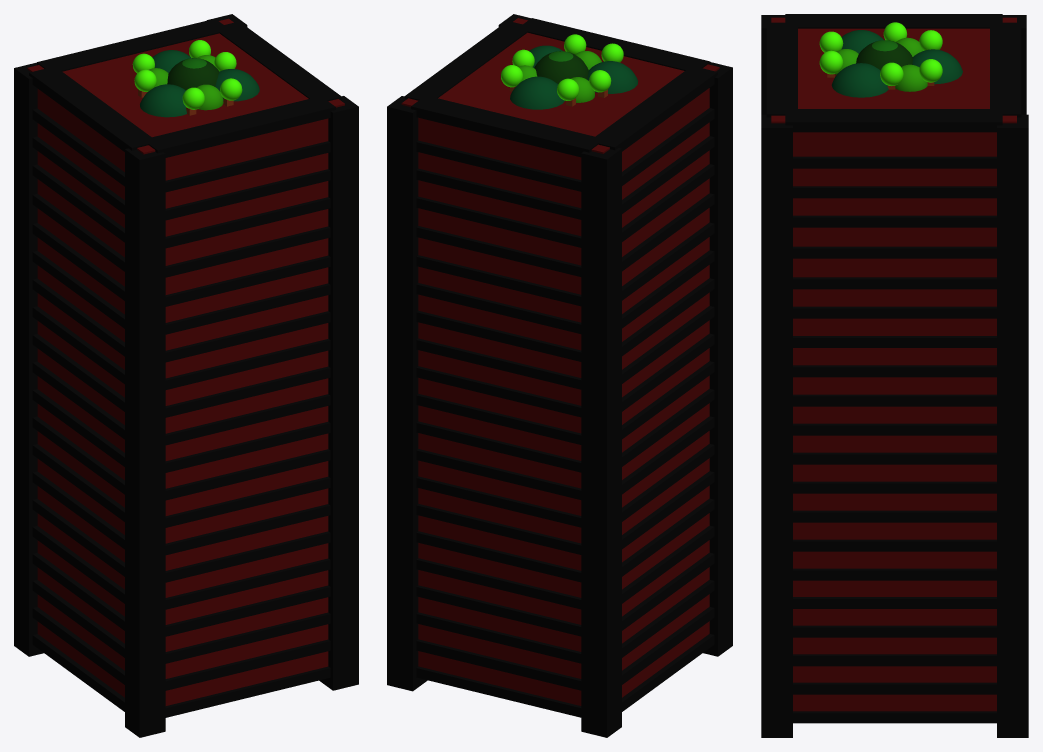
Rendered from MainBuild_Red.fbx.
3 views of the same model, side by side, from view 1: azimuth 30°, elevation 25°; view 2: azimuth 150°, elevation 25°; view 3: azimuth 270°, elevation 25° (orthographic). The views are drawn at different scales.
Parts seen in each view (by area): view 1: pCube1, pasted__pasted__pasted__pasted__pasted__pasted__pasted__past (×31), pasted__pasted__pCube2, pasted__pCube2, pasted__pasted__pasted__pCube2, pasted__pasted__pasted__pCube3 (×2), pasted__pasted__pasted__pasted__pasted__pasted__pasted__pCub (×2), pasted__pasted__pasted__pasted__pasted__pCube3 (×2), pasted__pasted__pasted__pasted__pasted__pasted__pCube3 (×2), pasted__pasted__pasted__pasted__pCube3 (×2), pCube3, pasted__pCube3 (+4 smaller); view 2: pCube1, pasted__pasted__pasted__pasted__pasted__pasted__pasted__past (×30), pasted__pasted__pasted__pCube2, pCube2, pasted__pasted__pCube2, pasted__pasted__pasted__pasted__pCube3 (×2), pasted__pasted__pCube3 (×2), pasted__pasted__pasted__pasted__pasted__pasted__pCube3 (×2), pasted__pasted__pasted__pasted__pasted__pasted__pasted__pCub (×2), pasted__pasted__pasted__pCube3 (×2), pasted__pasted__pasted__pasted__pasted__pCube3 (×2), pCube3 (+4 smaller); view 3: pCube1, pasted__pasted__pasted__pasted__pasted__pasted__pasted__past (×20), pCube2, pasted__pCube2, pasted__pCube3, pasted__pasted__pCube3, pasted__pasted__pasted__pCube3, pasted__pasted__pasted__pasted__pCube3, pasted__pasted__pasted__pasted__pasted__pasted__pCube3, pasted__pasted__pasted__pasted__pasted__pasted__pasted__pCub, pasted__pasted__pasted__pasted__pasted__pCube3, pasted__pasted__pasted__pasted__pasted__pSphere1 (+5 smaller).
Boxes of the visible parts, <box> form: pCube1: <box>27,18,344,705</box>; pasted__pasted__pasted__pasted__pasted__pasted__pasted__past (×31): <box>29,19,341,582</box>; pasted__pasted__pCube2: <box>125,148,165,737</box>; pasted__pCube2: <box>319,96,358,690</box>; pasted__pasted__pasted__pCube2: <box>14,62,43,656</box>; pasted__pasted__pasted__pCube3 (×2): <box>32,553,330,717</box>; pasted__pasted__pasted__pasted__pasted__pasted__pasted__pCub (×2): <box>32,444,330,609</box>; pasted__pasted__pasted__pasted__pasted__pCube3 (×2): <box>32,499,330,663</box>; pasted__pasted__pasted__pasted__pasted__pasted__pCube3 (×2): <box>32,471,330,636</box>; pasted__pasted__pasted__pasted__pCube3 (×2): <box>32,526,330,690</box>; pCube3: <box>32,634,124,711</box>; pasted__pCube3: <box>32,607,124,684</box>; pCube1: <box>401,18,719,705</box>; pasted__pasted__pasted__pasted__pasted__pasted__pasted__past (×30): <box>404,18,717,554</box>; pasted__pasted__pasted__pCube2: <box>581,148,621,737</box>; pCube2: <box>387,96,427,691</box>; pasted__pasted__pCube2: <box>703,62,732,656</box>; pasted__pasted__pasted__pasted__pCube3 (×2): <box>416,525,714,663</box>; pasted__pasted__pCube3 (×2): <box>416,579,714,717</box>; pasted__pasted__pasted__pasted__pasted__pasted__pCube3 (×2): <box>416,471,714,609</box>; pasted__pasted__pasted__pasted__pasted__pasted__pasted__pCub (×2): <box>416,443,714,582</box>; pasted__pasted__pasted__pCube3 (×2): <box>416,552,714,690</box>; pasted__pasted__pasted__pasted__pasted__pCube3 (×2): <box>416,498,714,636</box>; pCube3: <box>622,634,714,711</box>; pCube1: <box>771,17,1016,711</box>; pasted__pasted__pasted__pasted__pasted__pasted__pasted__past (×20): <box>766,14,1021,522</box>; pCube2: <box>997,114,1028,737</box>; pasted__pCube2: <box>761,114,792,737</box>; pasted__pCube3: <box>793,711,996,723</box>; pasted__pasted__pCube3: <box>793,682,996,694</box>; pasted__pasted__pasted__pCube3: <box>793,654,996,666</box>; pasted__pasted__pasted__pasted__pCube3: <box>793,625,996,637</box>; pasted__pasted__pasted__pasted__pasted__pasted__pCube3: <box>793,568,996,580</box>; pasted__pasted__pasted__pasted__pasted__pasted__pasted__pCub: <box>793,539,996,551</box>; pasted__pasted__pasted__pasted__pasted__pCube3: <box>793,597,996,608</box>; pasted__pasted__pasted__pasted__pasted__pSphere1: <box>831,63,888,97</box>.
Bounding box in the file's own units: 8.48 × 22.45 × 8.49.
